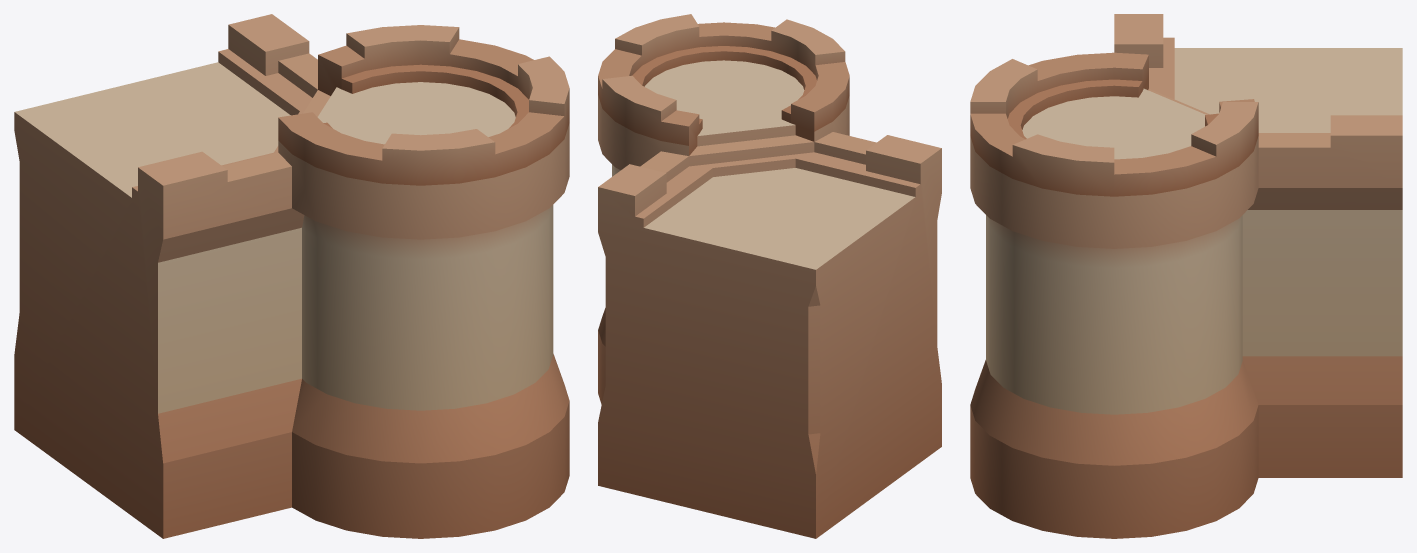
File: wall-corner-half-tower.glb
3 views of the same model, side by side, from view 1: azimuth 30°, elevation 25°; view 2: azimuth 150°, elevation 25°; view 3: azimuth 270°, elevation 25° (orthographic). The views are drawn at different scales.
Parts seen in each view (by area): view 1: wall-corner-half-tower; view 2: wall-corner-half-tower; view 3: wall-corner-half-tower.
Part boxes in pixels (x1,y1,x2,y2): wall-corner-half-tower: (14, 14, 569, 538); wall-corner-half-tower: (598, 14, 941, 538); wall-corner-half-tower: (970, 14, 1402, 538).
Bounding box in the file's own units: 1.5 × 1.44 × 1.5.
